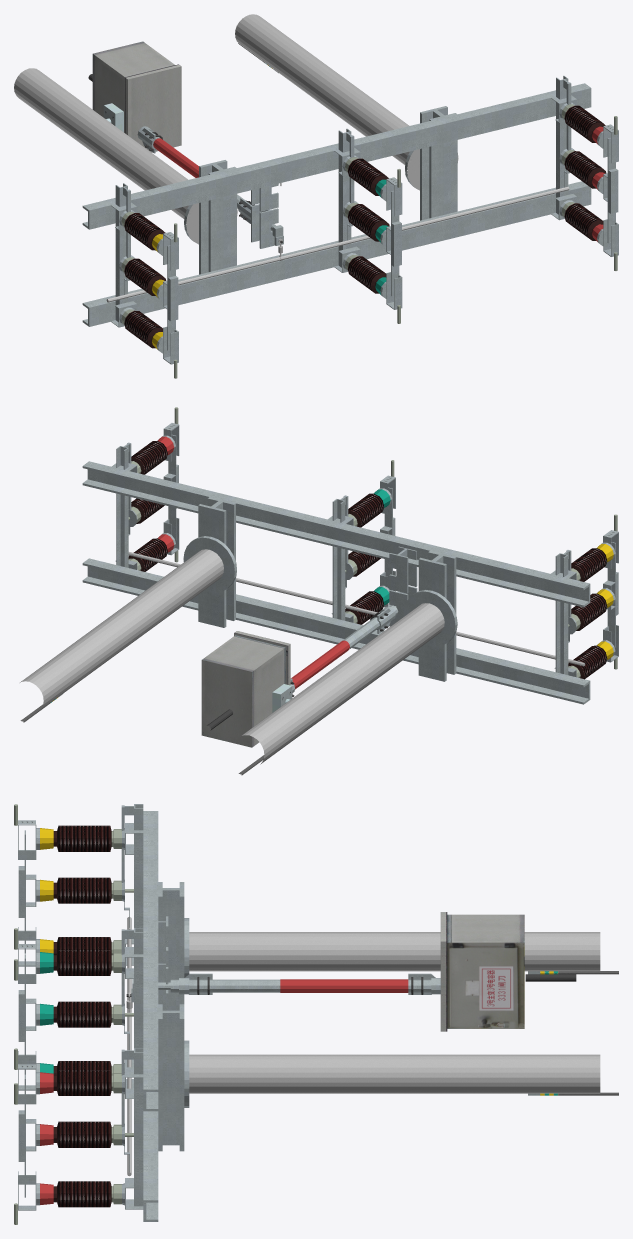
Rendered from glkg-11m30000017890312-geode.glb.
3 renders of one model, top to bottom at view 1: azimuth 30°, elevation 25°; view 2: azimuth 150°, elevation 25°; view 3: azimuth 270°, elevation 25°, orthographic. The views are drawn at different scales.
Parts seen in each view (by area): view 1: Node; view 2: Node; view 3: Node.
Part boxes in pixels (left/top/right/bottom): Node: left=14, top=14, right=618, bottom=378; Node: left=20, top=407, right=618, bottom=775; Node: left=14, top=804, right=618, bottom=1224.
Bounding box in the file's own units: 4.56 × 1.33 × 4.18.
Materials: 13 (13 with a texture image).
